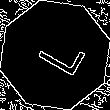L_NW: (26, 29, 84, 81)
